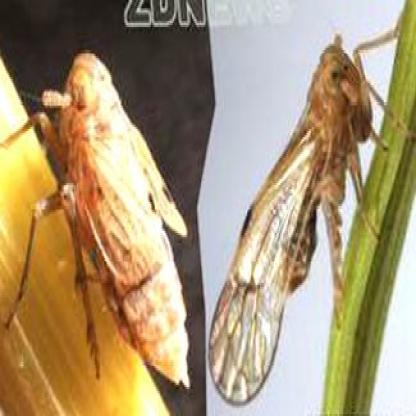brown-planthopper: (210, 32, 376, 408), (43, 49, 194, 394)
